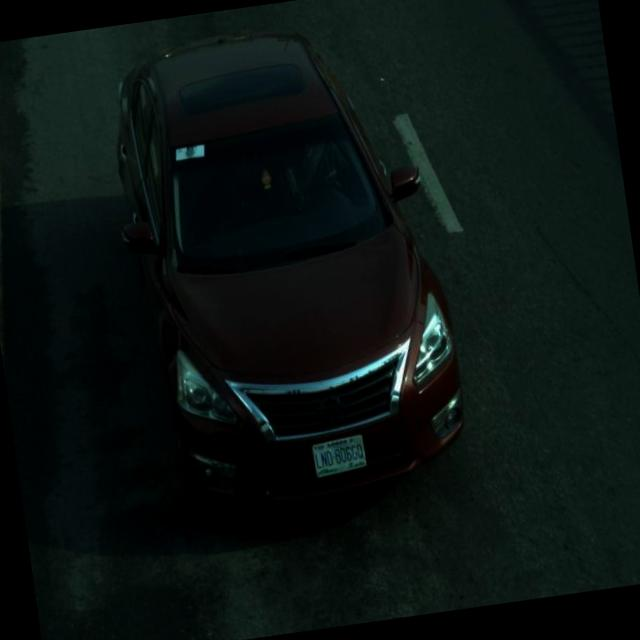person_with_seatbelt: (272, 132, 364, 224)
